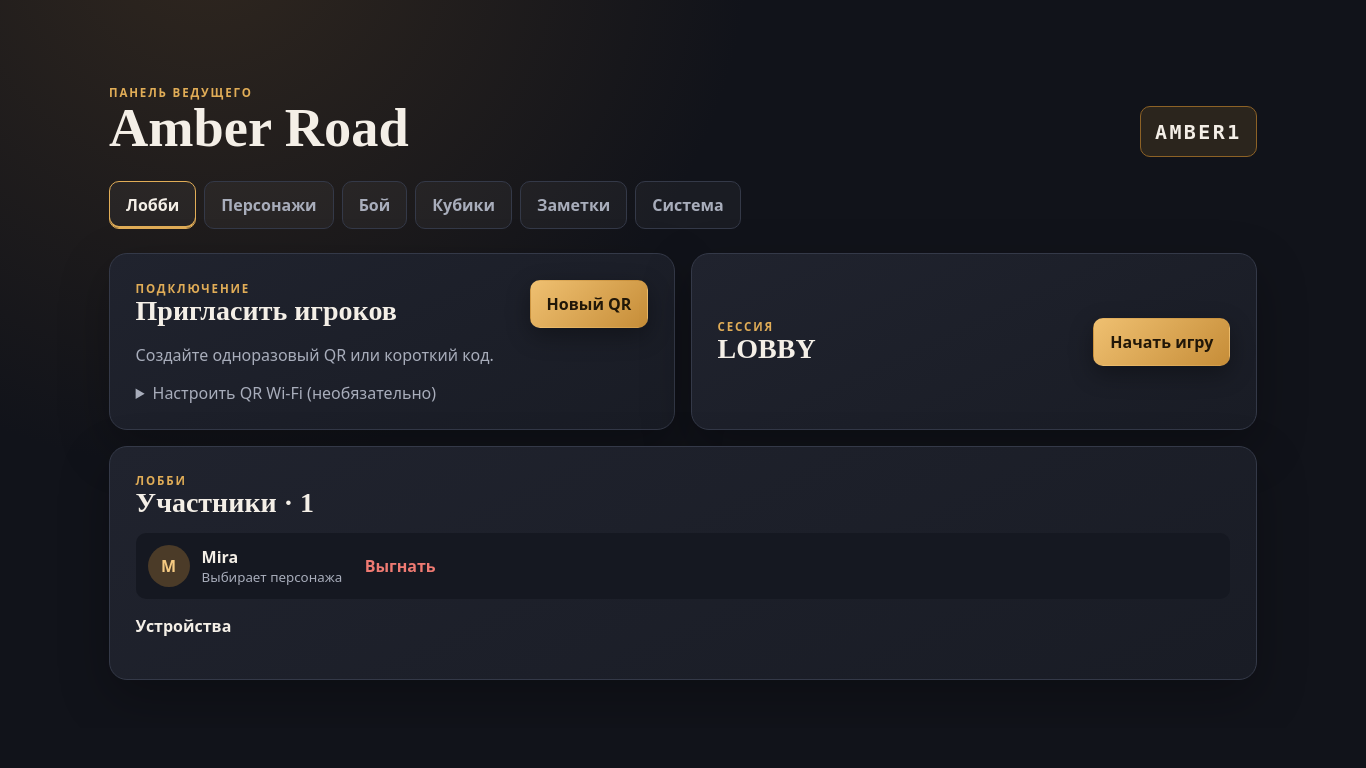
local multiplayer interface › opens the GM notes section
Click the button "Заметки" at (574, 205), box [520,181,627,229]
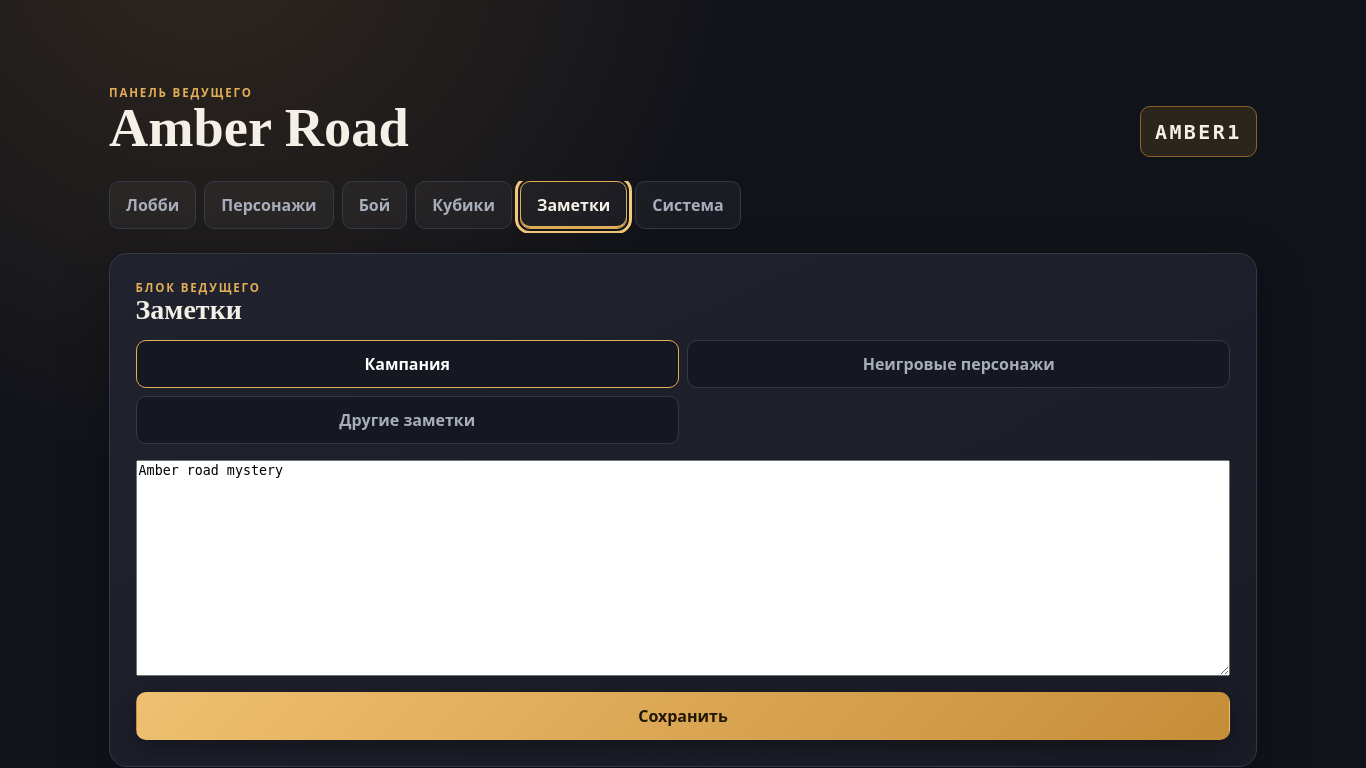
Expected: the text box showing "Amber road mystery" is shown, [136,460,1230,676]
